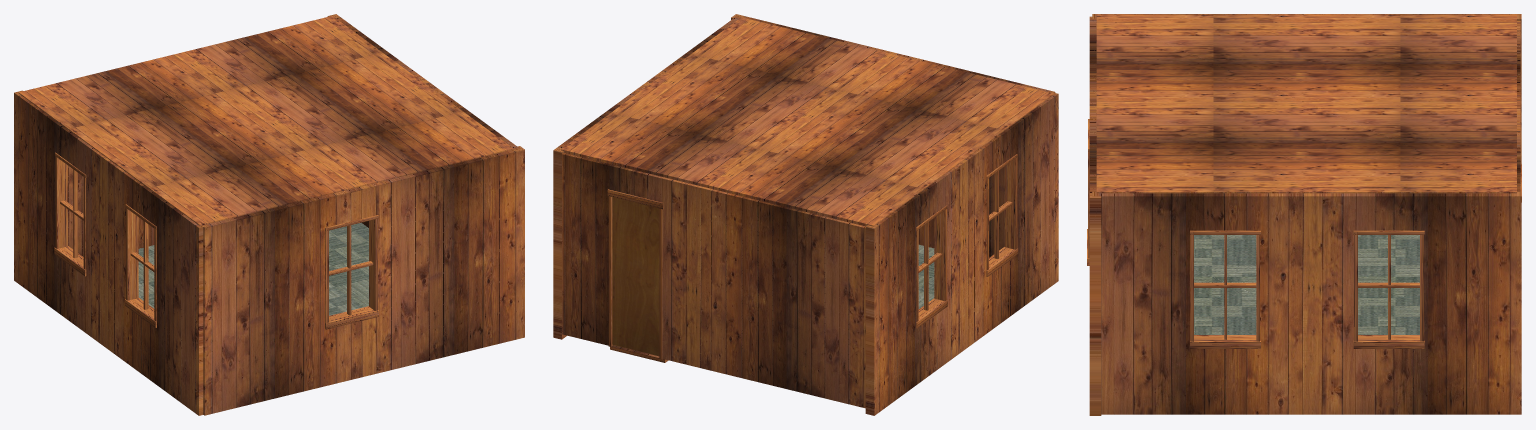
File: bedroom_shell.fbx
The picture shows the model from 3 angles, left to right: view 1: azimuth 30°, elevation 25°; view 2: azimuth 150°, elevation 25°; view 3: azimuth 270°, elevation 25°; orthographic projection. The views are drawn at different scales.
Parts seen in each view (by area): view 1: pCube32, pCube40, pCube33 (×2), floor, pCube34 (×3), pCube42, pCube37, pCube38; view 2: pCube40, pCube42, pCube33 (×2), door, pCube35 (×2), pCube32, pCube45, floor, pCube46; view 3: pCube33 (×2), pCube40, floor, pCube32, pCube37 (×2), pCube35 (×2), pCube34 (×2), pCube42.
Boxes of the visible parts, x1,y1,x2,y2 form: pCube32: [203, 146, 524, 415]; pCube40: [18, 16, 513, 225]; pCube33 (×2): [14, 14, 520, 415]; floor: [138, 222, 368, 315]; pCube34 (×3): [55, 154, 377, 310]; pCube42: [68, 165, 154, 256]; pCube37: [325, 306, 378, 329]; pCube38: [143, 221, 148, 309]; pCube40: [561, 17, 1053, 226]; pCube42: [562, 153, 865, 408]; pCube33 (×2): [553, 15, 1058, 415]; door: [612, 197, 659, 355]; pCube35 (×2): [934, 155, 1017, 301]; pCube32: [731, 14, 1055, 257]; pCube45: [608, 196, 612, 346]; floor: [918, 244, 934, 308]; pCube46: [659, 208, 662, 359]; pCube33 (×2): [1092, 14, 1521, 414]; pCube40: [1096, 14, 1516, 193]; floor: [1194, 235, 1419, 334]; pCube32: [1089, 16, 1101, 415]; pCube37 (×2): [1190, 335, 1424, 348]; pCube35 (×2): [1190, 232, 1357, 341]; pCube34 (×2): [1256, 232, 1423, 341]; pCube42: [1517, 21, 1520, 191].
Size of the model in its own units: 20.65 by 11.44 by 20.55.
